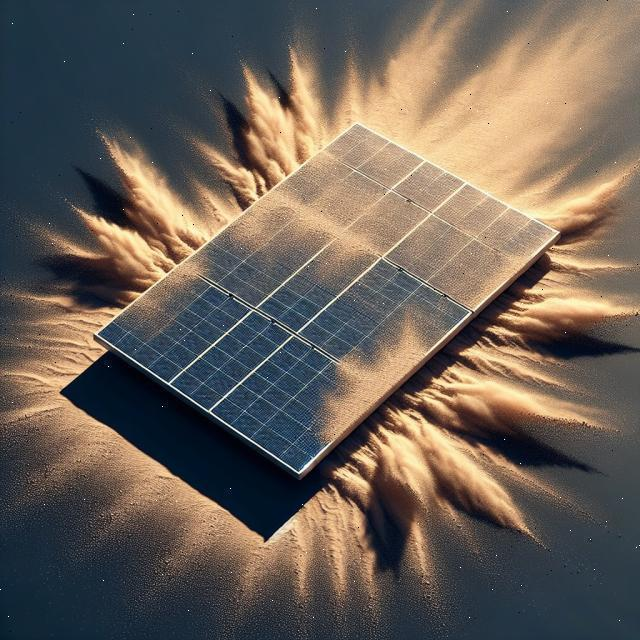Anomaly Solar Panel: (96, 58, 557, 508)
Surface Contaminant: (209, 89, 559, 386), (286, 284, 448, 441), (116, 246, 223, 344)
